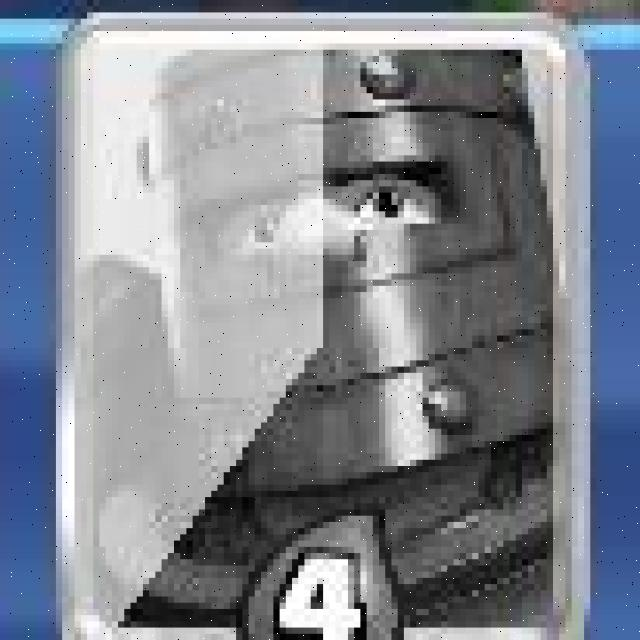Dark_Prince: (50, 7, 597, 634)
